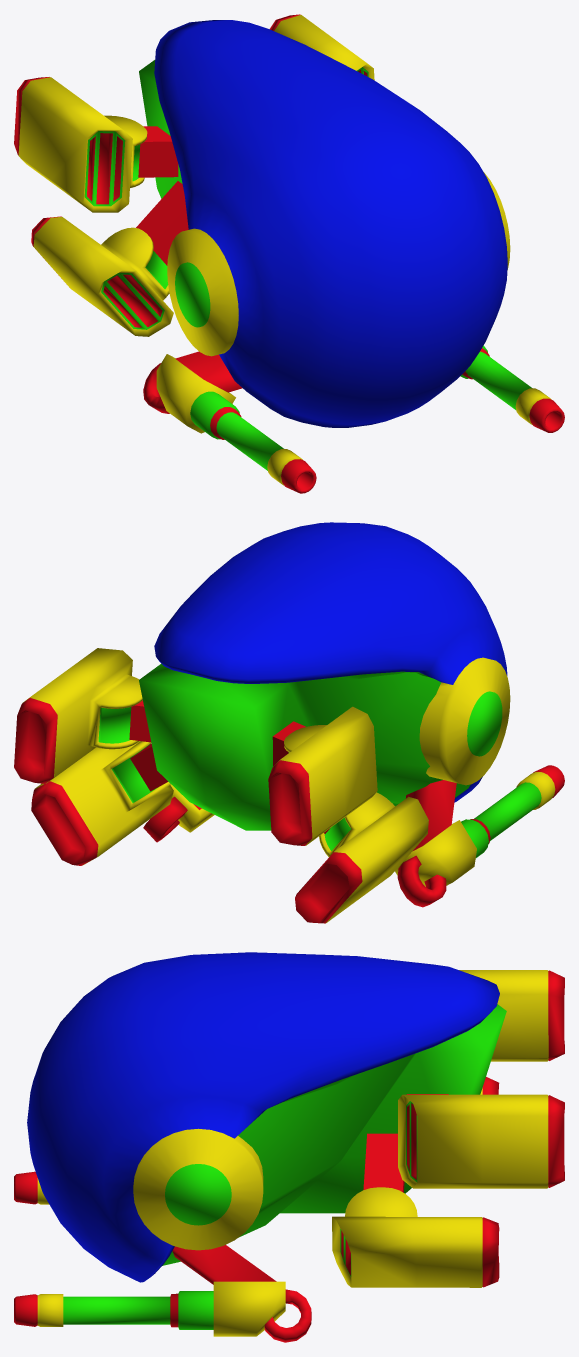
The model's file is intercepter.fbx.
3 views of the same model, one above another, from view 1: azimuth 30°, elevation 25°; view 2: azimuth 150°, elevation 25°; view 3: azimuth 270°, elevation 25° (orthographic).
Visible parts, largest first — view 1: Ship, Engine.002, Canons, Engine.001, Cube.001, Cube.002, Ship.001; view 2: Ship, Ship.001, Engine.002, Engine.001, Canons, Cube.002, Cube.001; view 3: Ship, Engine.002, Ship.001, Canons, Engine.001, Cube.001.
Part boxes in pixels (x1,y1,x2,y2): Ship: (154, 20, 510, 427); Engine.002: (14, 14, 374, 212); Canons: (143, 345, 564, 493); Engine.001: (31, 216, 173, 336); Cube.001: (136, 181, 188, 265); Cube.002: (138, 126, 178, 177); Ship.001: (139, 60, 182, 198); Ship: (154, 522, 510, 806); Ship.001: (139, 663, 442, 830); Engine.002: (14, 648, 377, 845); Engine.001: (31, 741, 428, 923); Canons: (143, 765, 564, 907); Cube.002: (129, 700, 305, 766); Cube.001: (130, 743, 330, 833); Ship: (27, 952, 499, 1282); Engine.002: (398, 970, 564, 1188); Ship.001: (162, 1004, 506, 1265); Canons: (14, 1171, 311, 1342); Engine.001: (332, 1077, 499, 1287); Cube.001: (363, 1133, 404, 1192).
Bounding box in the file's own units: 225 × 199 × 322.
